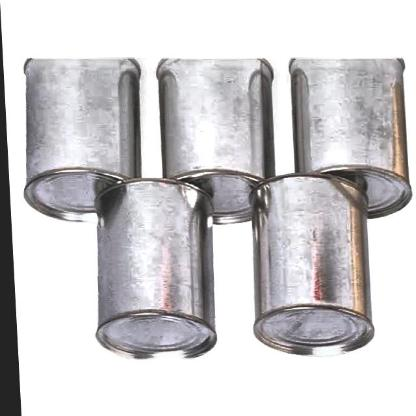Can: (240, 172, 378, 362), (82, 178, 219, 366), (14, 56, 152, 230), (280, 52, 416, 224), (153, 54, 283, 228)
